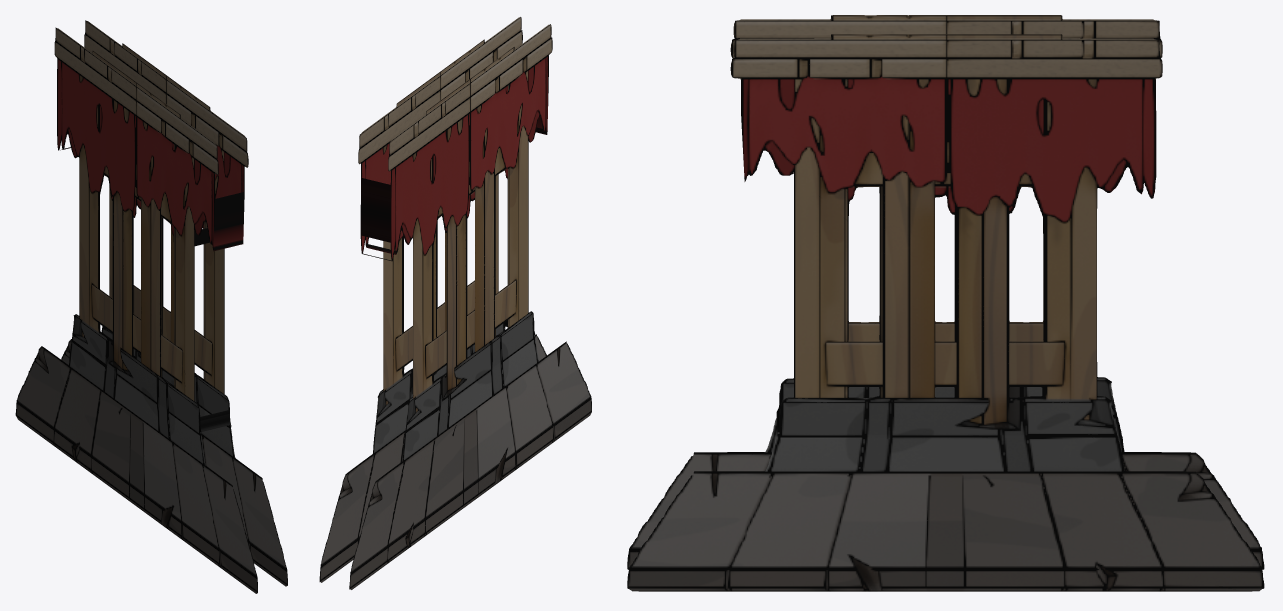
File: Tower.mtl.obj
3 views of the same model, side by side, from view 1: azimuth 30°, elevation 25°; view 2: azimuth 150°, elevation 25°; view 3: azimuth 270°, elevation 25° (orthographic). The views are drawn at different scales.
Visible parts, largest first — view 1: Tower.2; view 2: Tower.2; view 3: Tower.2.
Part boxes in pixels (x1=…): Tower.2: x1=15, y1=20, x2=287, y2=593; Tower.2: x1=319, y1=17, x2=591, y2=589; Tower.2: x1=627, y1=15, x2=1264, y2=591.
Bounding box in the file's own units: 0.0299 × 0.412 × 0.4279.
